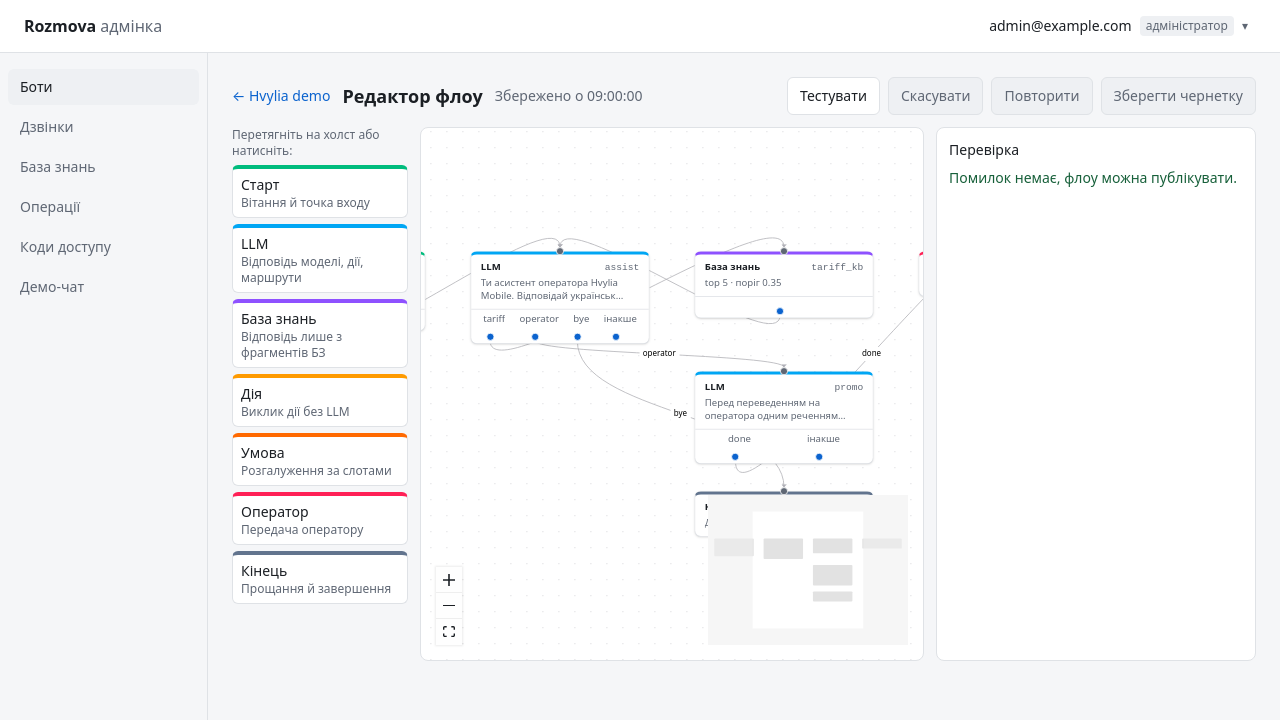
Scenario: an added node makes the draft dirty, undo reverts it, save sends the graph and re-checks
The width and height of the screenshot is (1280, 720).
Expected: the element with test id "node-assist" is shown, [470,251,650,344]
Click the button "Кінець Прощання й завершення". click: [320, 578]
box: [232,551,408,604]
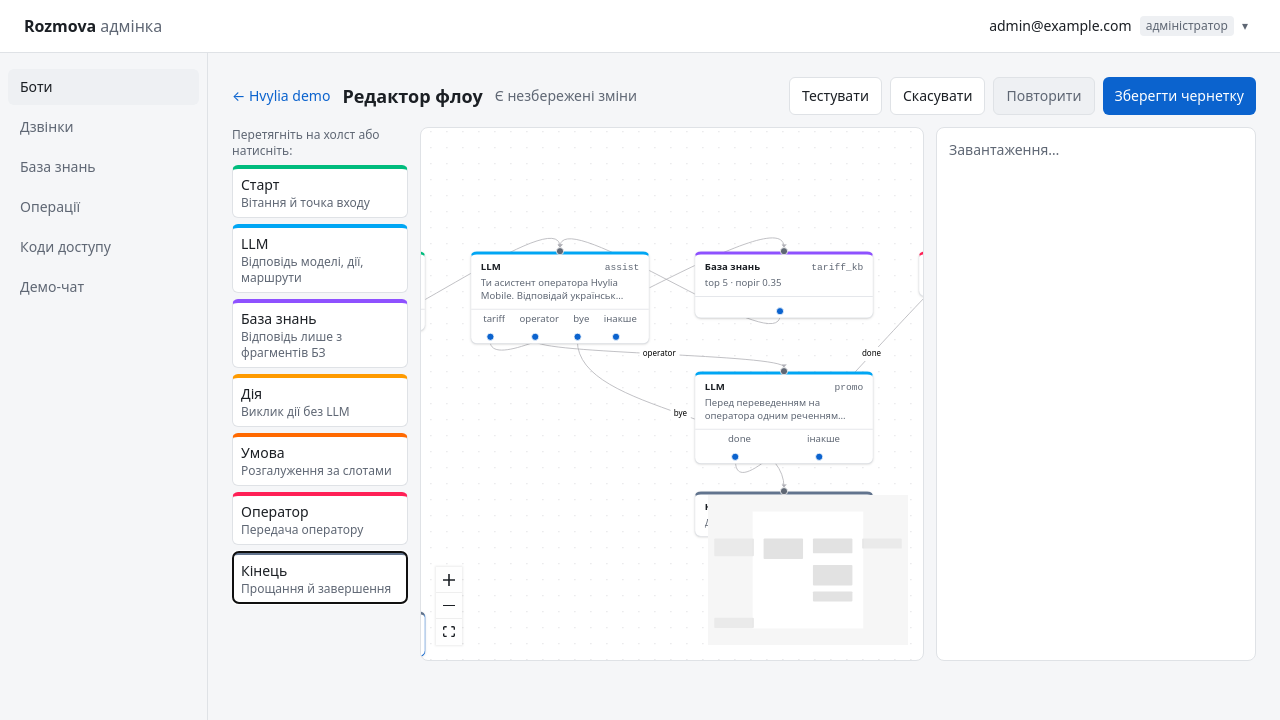
Expected: the message reads "Є незбережені зміни", [495,86,637,105]
Click the button "Скасувати". click: [938, 96]
box: [890,77,986,115]
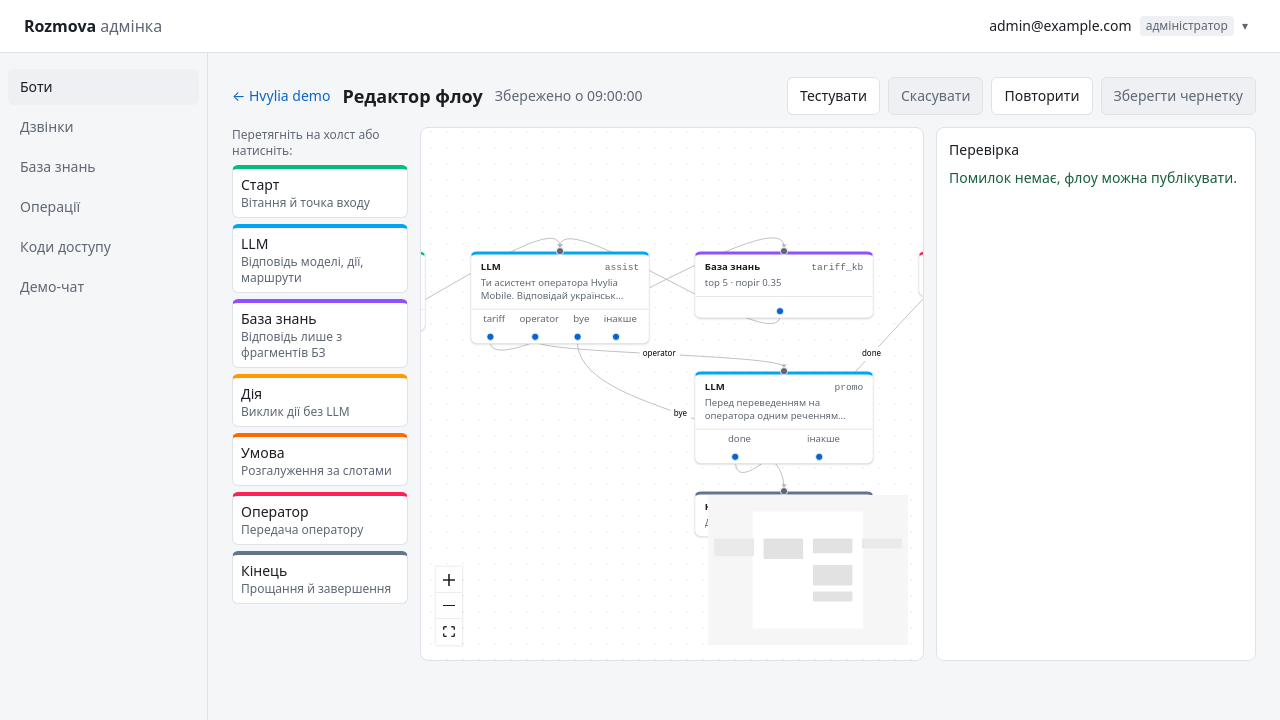
Expected: the element with test id "node-end_1" is gone
Expected: the message no longer shows "незбережені", [495,86,643,106]
Click the button "Повторити". click: [1042, 96]
box: [992,77,1092,115]
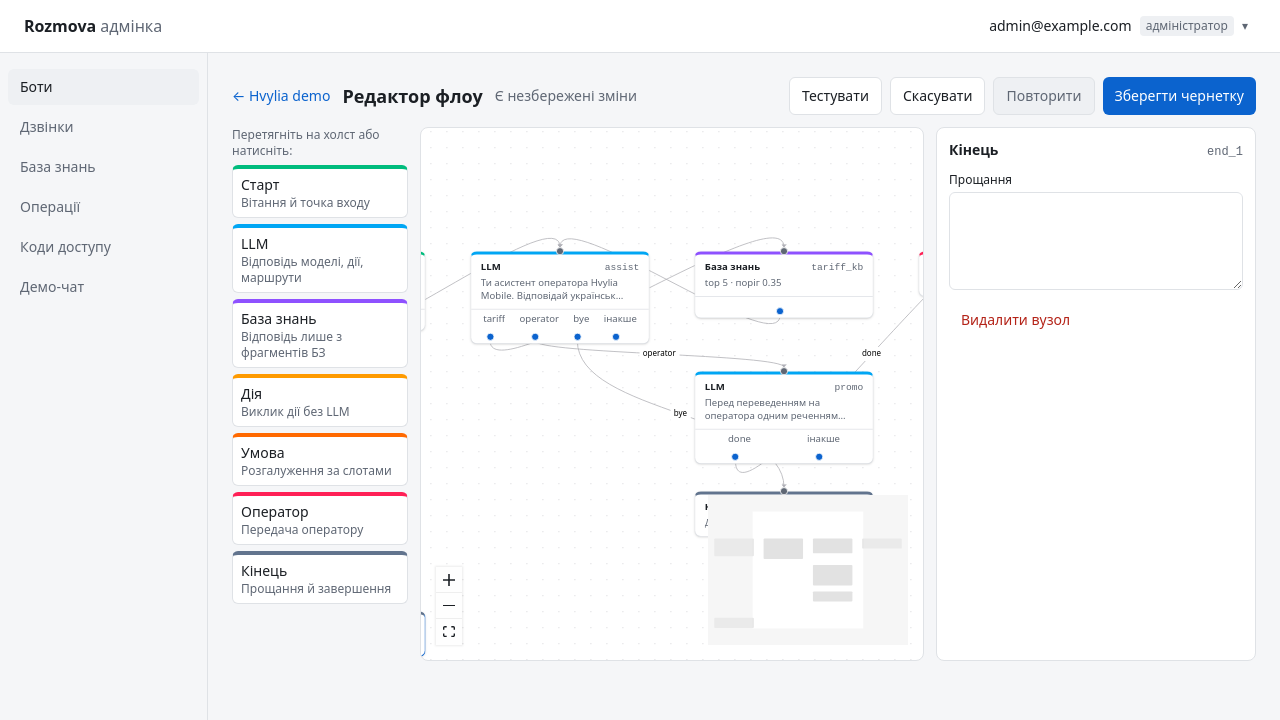
Click the button "Зберегти чернетку". click: [1179, 96]
box: [1102,77,1256,115]
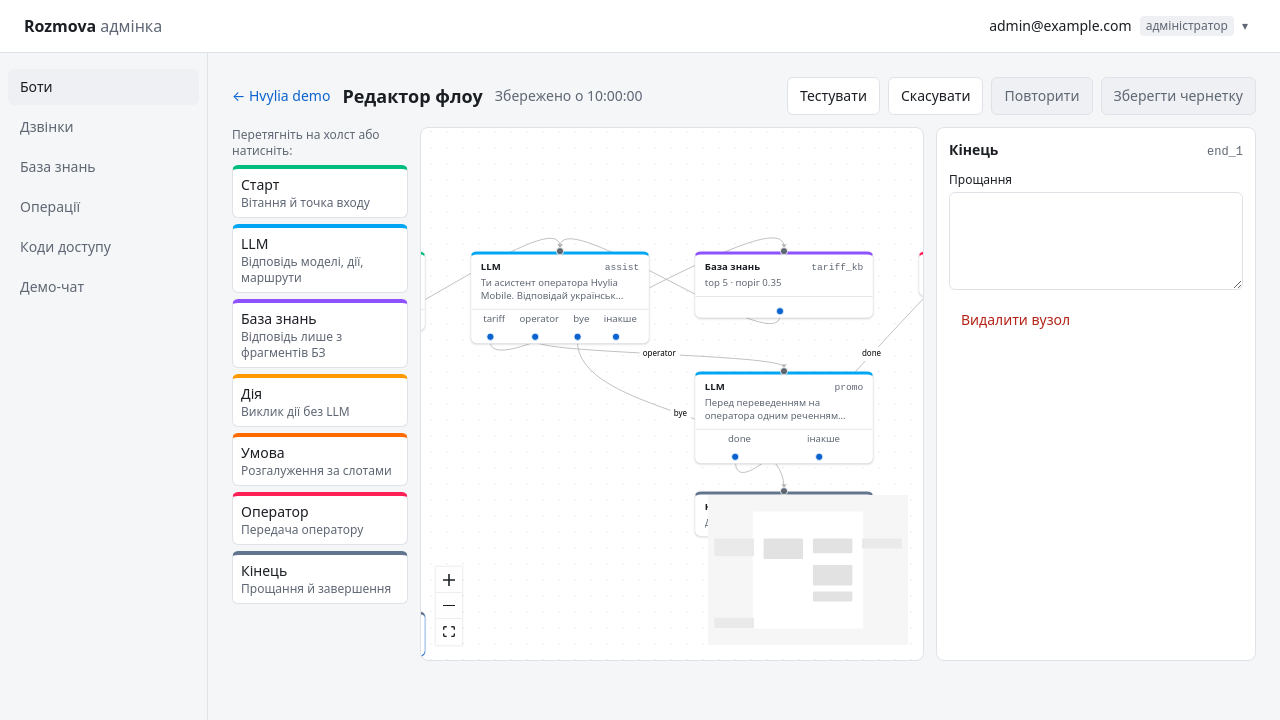
Expected: the message shows "Збережено о", [495,86,643,105]
